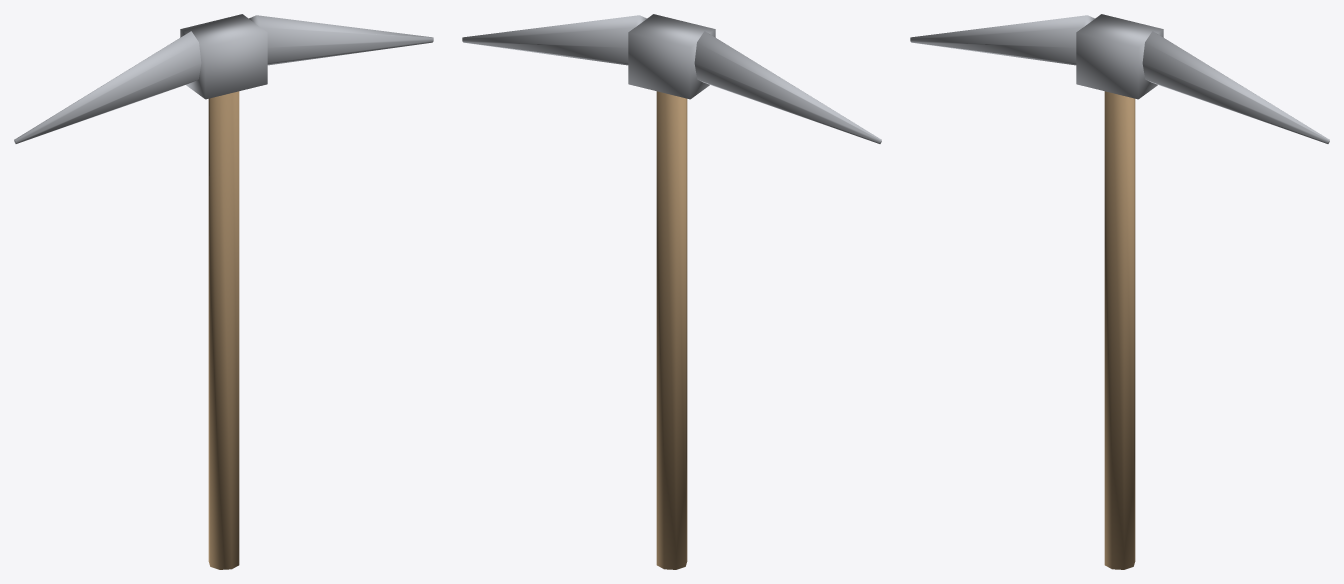
Rendered from picareta.glb.
3 views of the same model, side by side, from view 1: azimuth 30°, elevation 25°; view 2: azimuth 150°, elevation 25°; view 3: azimuth 330°, elevation 25° (orthographic).
Parts seen in each view (by area): view 1: Cone; view 2: Cone; view 3: Cone.
Part boxes in pixels (x1,y1,x2,y2): Cone: (14, 14, 433, 569); Cone: (462, 14, 881, 569); Cone: (910, 14, 1329, 569).
Bounding box in the file's own units: 0.6745 × 0.8318 × 0.07.
